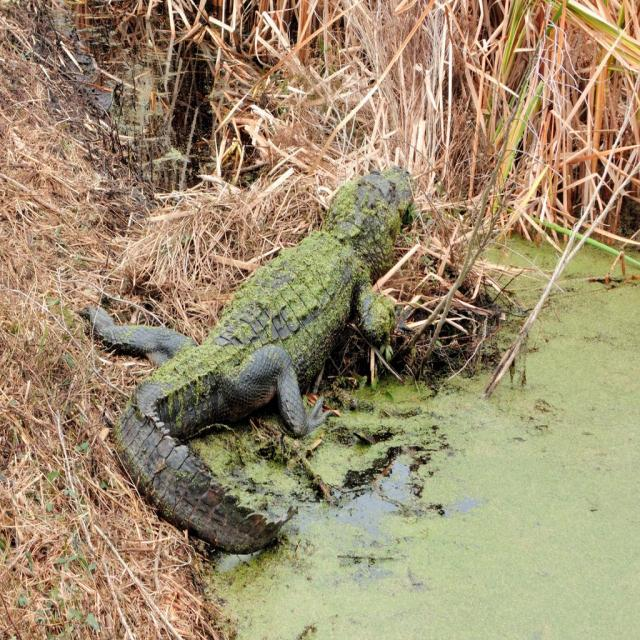crocodile: (84, 157, 425, 551)
